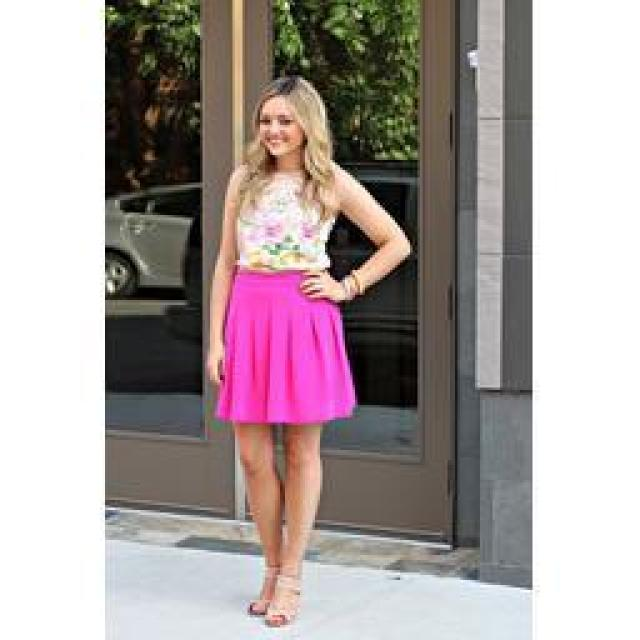Tshirt: (235, 159, 337, 279)
skirt: (214, 264, 356, 426)
